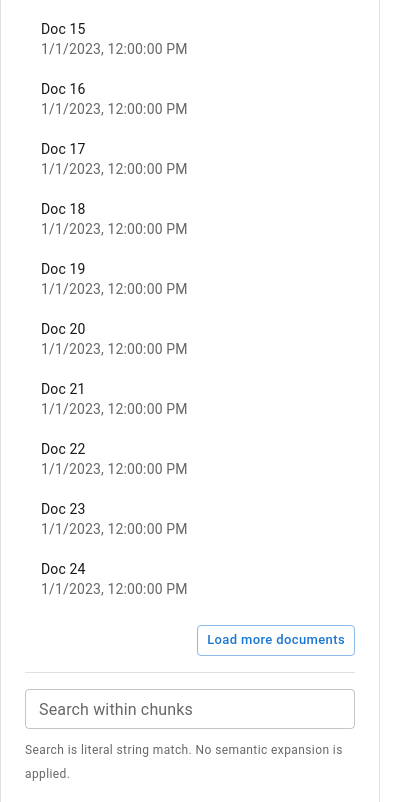
Test: EvidencePanel › handles load more documents
(page scrolled)
Click the button "Load more documents": x=276, y=641 [197,626,355,656]
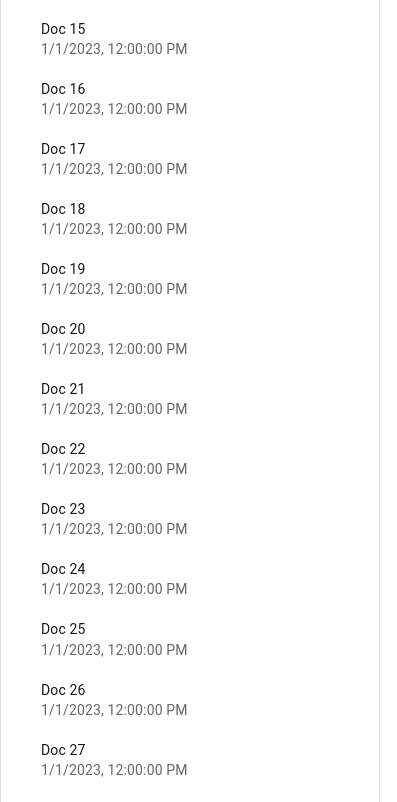
expect the text "Doc 25" is shown: met, box [41,622,86,638]
